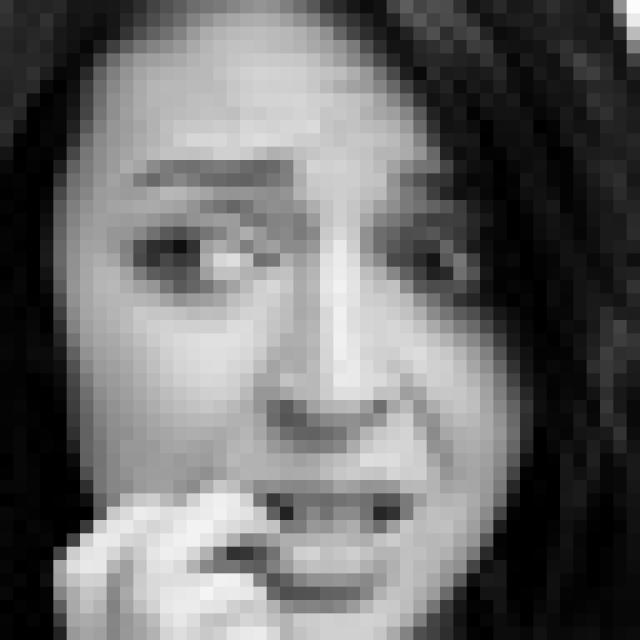fear: (110, 148, 499, 615)
